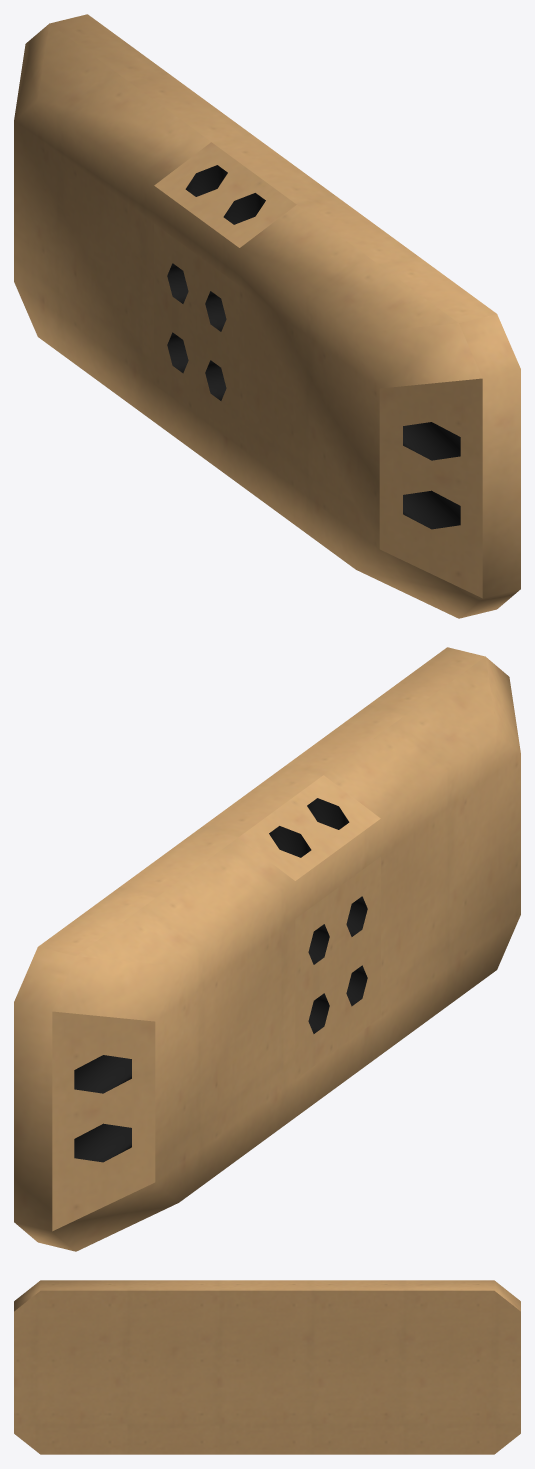
File: SpaceportRCS2.fbx
3 views of the same model, one above another, from view 1: azimuth 30°, elevation 25°; view 2: azimuth 150°, elevation 25°; view 3: azimuth 270°, elevation 25° (orthographic). The views are drawn at different scales.
Parts seen in each view (by area): view 1: rcs-port; view 2: rcs-port; view 3: rcs-port.
Boxes of the visible parts, <box> form: rcs-port: <box>14,14,520,618</box>; rcs-port: <box>14,647,520,1251</box>; rcs-port: <box>14,1280,520,1454</box>.
Size of what is drawn, in the model's own units: 0.2581 by 0.7631 by 2.14.
Materials: 1 (1 with a texture image).
